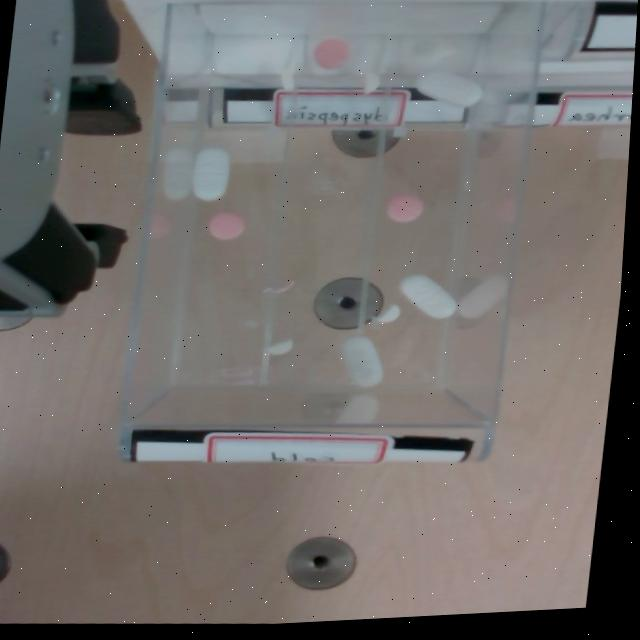amoxicle_tab: (401, 274, 457, 317), (415, 72, 483, 107), (341, 335, 383, 385), (193, 146, 231, 199)
panstar_tab: (314, 38, 351, 69), (385, 195, 422, 222), (206, 212, 243, 239)
sudafed_tab: (377, 305, 401, 322), (270, 339, 294, 354), (364, 72, 381, 93)
